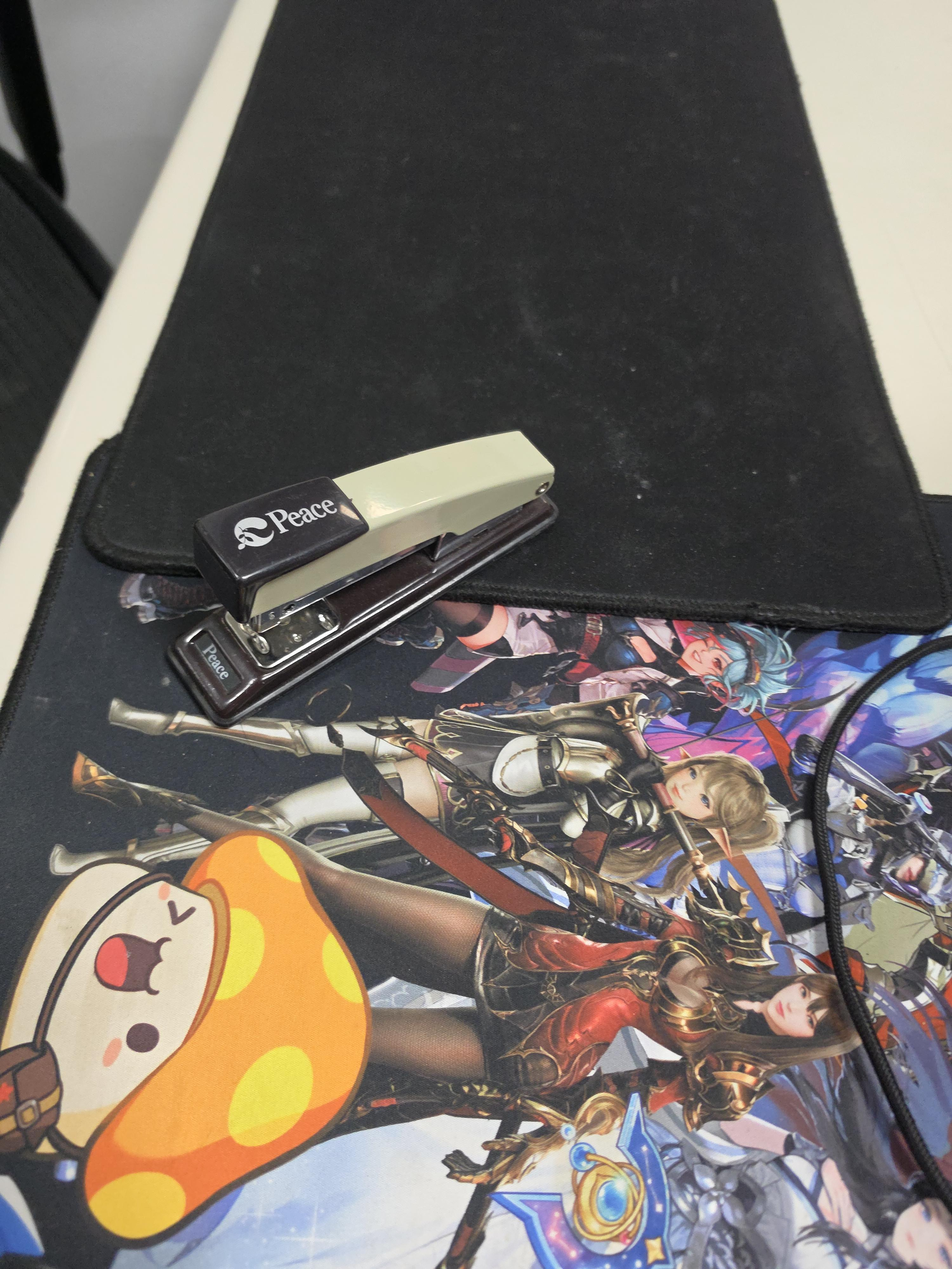stapler: (165, 429, 561, 726)
